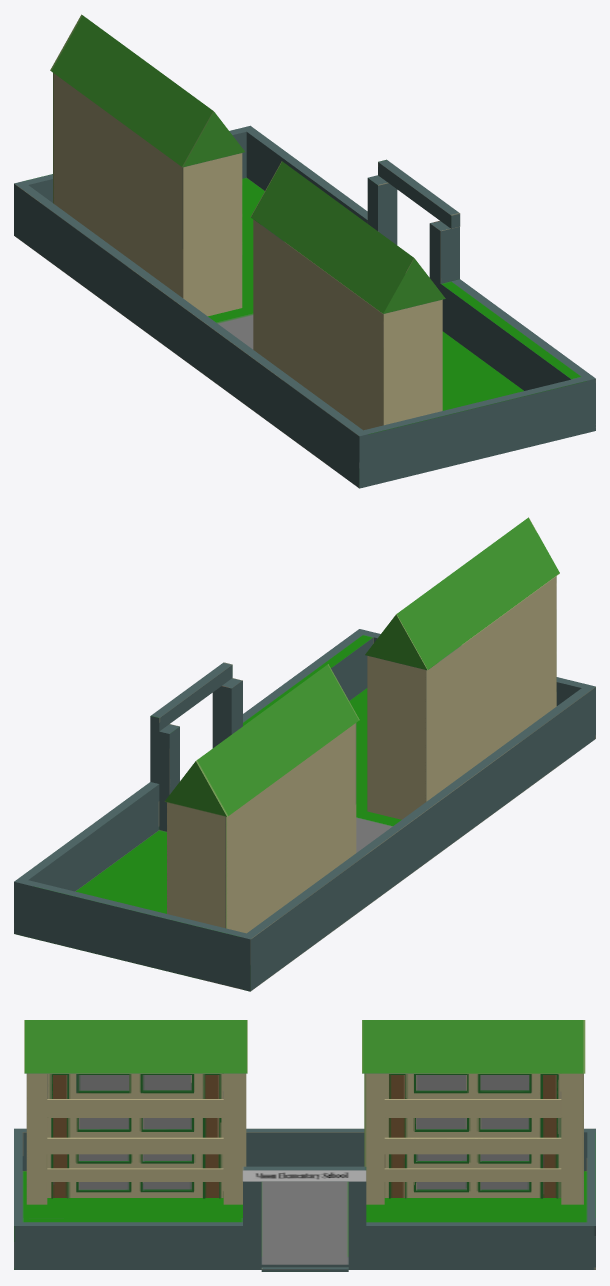
The model's file is moon.fbx.
The picture shows the model from 3 angles, top to bottom: view 1: azimuth 30°, elevation 25°; view 2: azimuth 150°, elevation 25°; view 3: azimuth 270°, elevation 25°; orthographic projection. The views are drawn at different scales.
Visible parts, largest first — view 1: Cube; view 2: Cube; view 3: Cube.
Boxes of the visible parts, x1,y1,x2,y2 form: Cube: (14,14,595,488); Cube: (14,517,595,991); Cube: (14,1020,595,1271).
Size of the model in its own units: 7990 by 6685 by 19823.
Materials: 1 (1 with a texture image).
